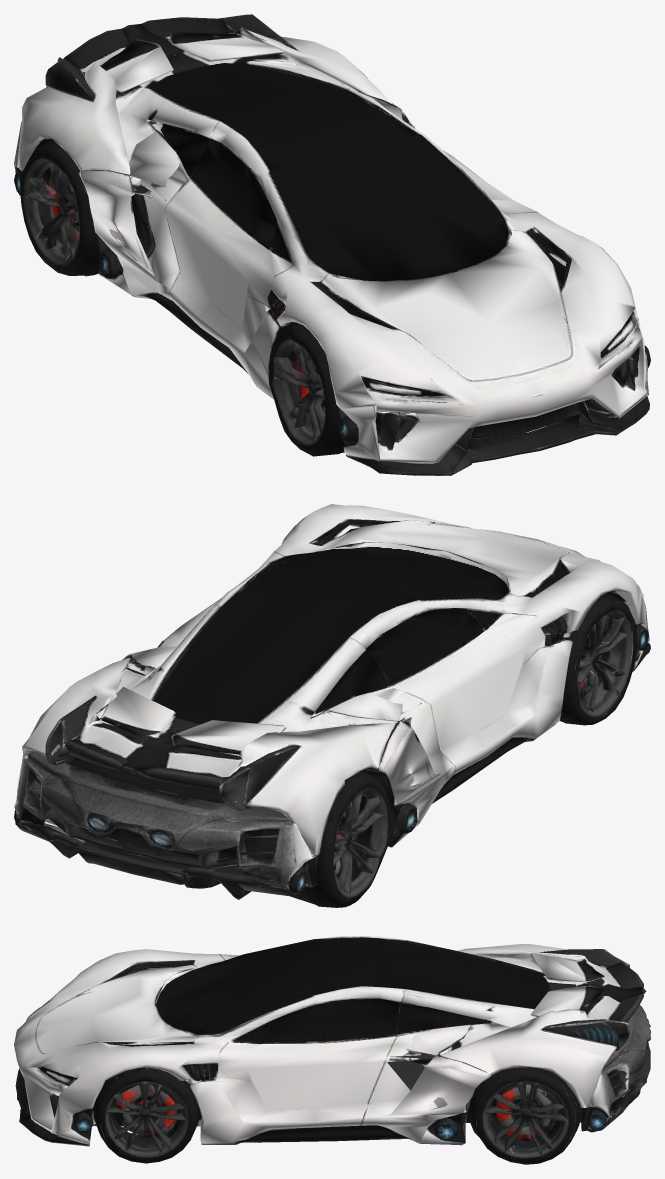
File: car_flying.glb
3 renders of one model, top to bottom at view 1: azimuth 30°, elevation 25°; view 2: azimuth 150°, elevation 25°; view 3: azimuth 270°, elevation 25°, orthographic. The views are drawn at different scales.
Visible parts, largest first — view 1: prop; view 2: prop; view 3: prop.
Part boxes in pixels (x1=…): prop: x1=14, y1=14, x2=650, y2=475; prop: x1=14, y1=504, x2=650, y2=907; prop: x1=14, y1=936, x2=650, y2=1164.
Bounding box in the file's own units: 1.65 × 1.01 × 3.8.
1 material, 1 textured.
